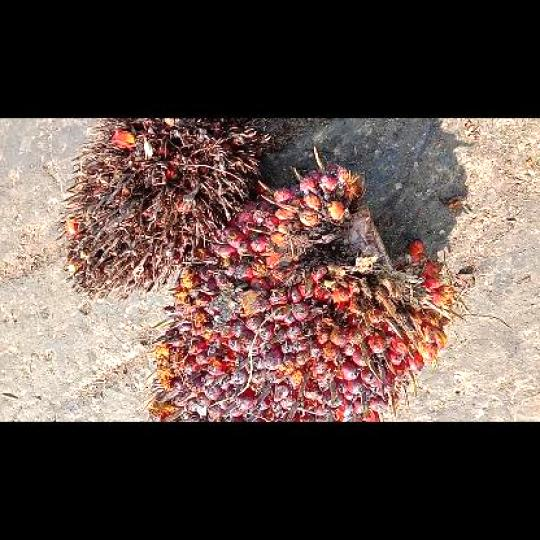masak: (144, 148, 458, 422)
terlalu masak: (58, 118, 269, 300)
